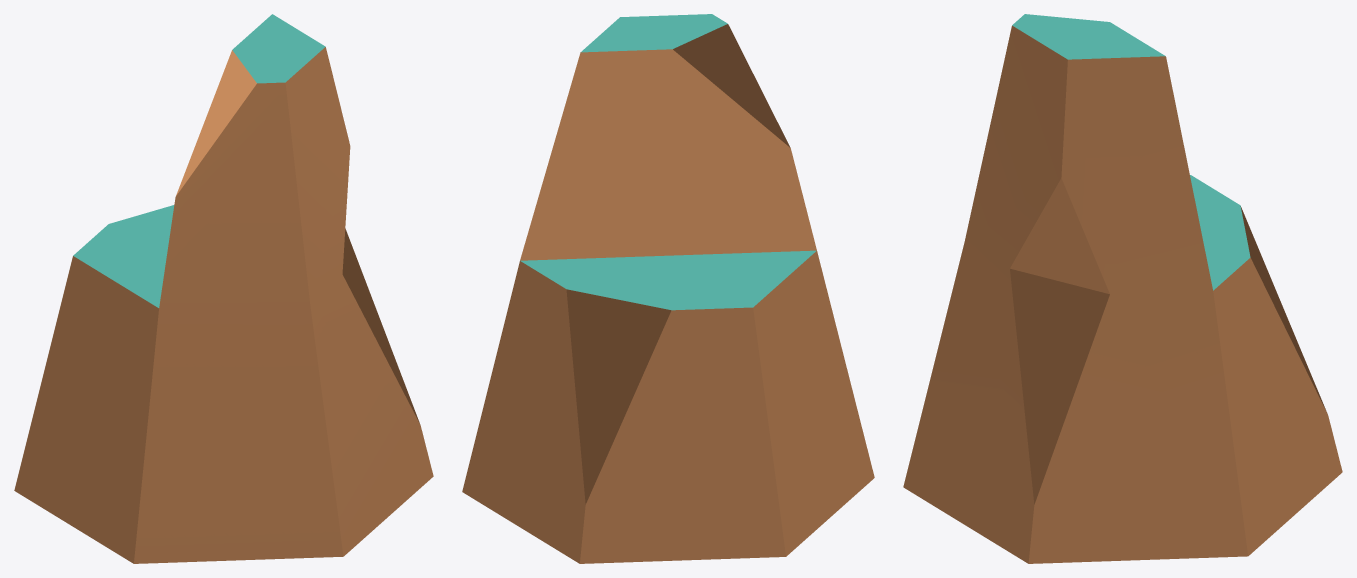
File: rock_tall10.obj
3 views of the same model, side by side, from view 1: azimuth 30°, elevation 25°; view 2: azimuth 150°, elevation 25°; view 3: azimuth 270°, elevation 25° (orthographic). The views are drawn at different scales.
Visible parts, largest first — view 1: rock_tall10; view 2: rock_tall10; view 3: rock_tall10.
Part boxes in pixels (x1,y1,x2,y2): rock_tall10: (14, 14, 433, 563); rock_tall10: (462, 14, 874, 563); rock_tall10: (903, 14, 1342, 563).
Bounding box in the file's own units: 4.88 × 6.2 × 5.38.
